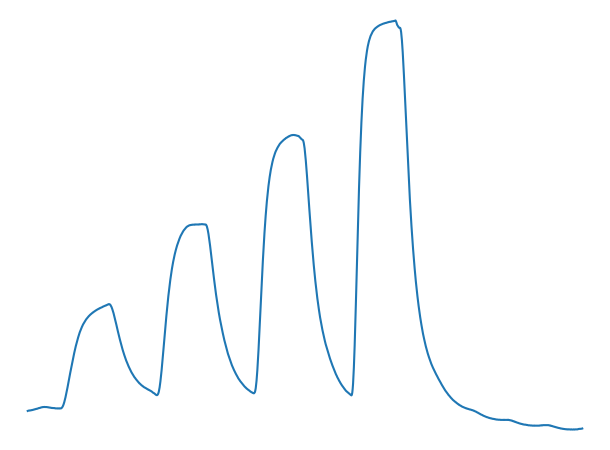decrease: (389, 14, 408, 36), (293, 128, 311, 150), (101, 297, 118, 316), (197, 219, 213, 237)
increase: (341, 373, 359, 401), (244, 376, 262, 401), (50, 394, 72, 414), (146, 382, 165, 399)
